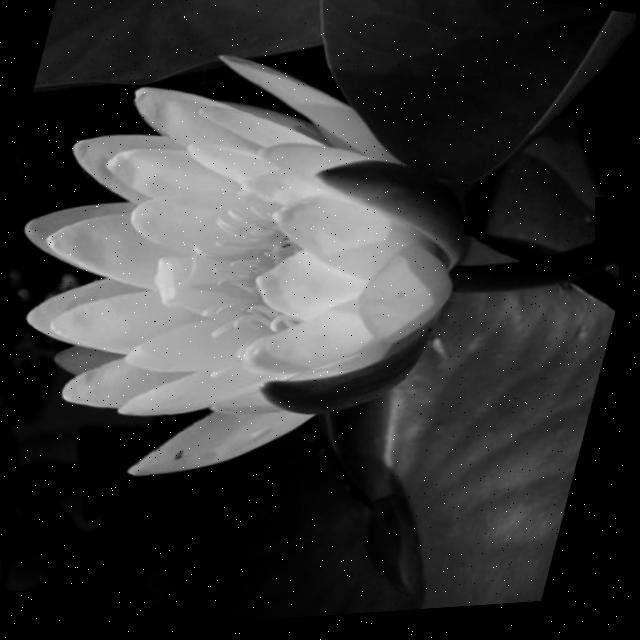rose: (0, 0, 585, 585)
